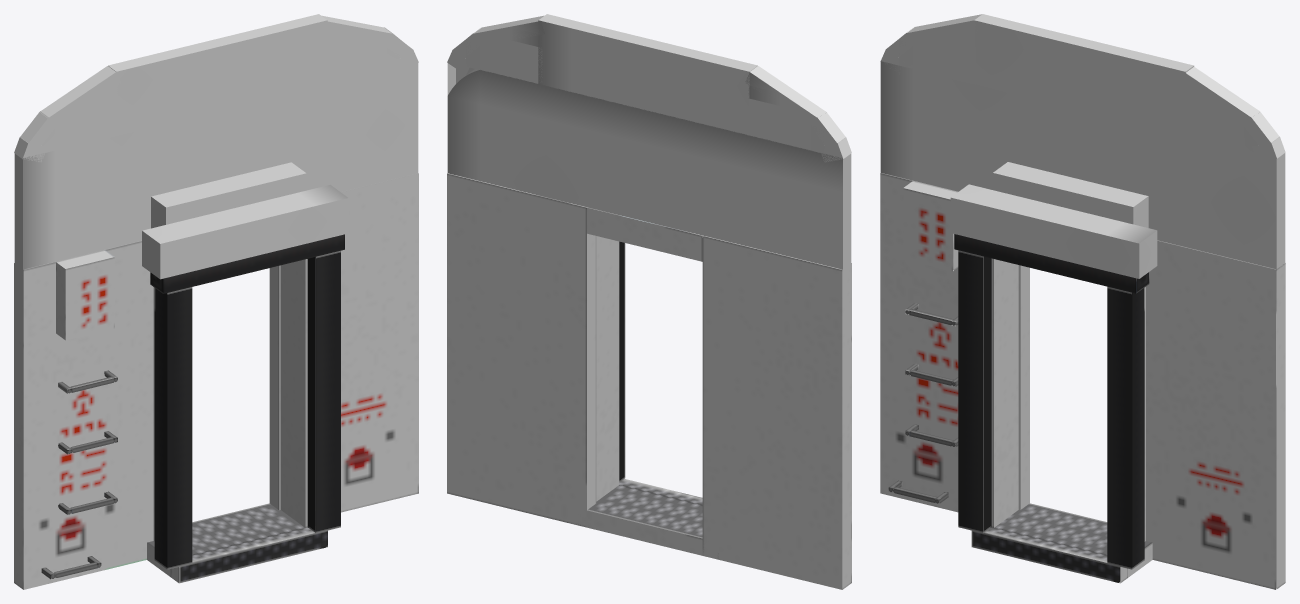
The model's file is end_face_original_25g_1.obj.
3 renders of one model, left to right at view 1: azimuth 30°, elevation 25°; view 2: azimuth 150°, elevation 25°; view 3: azimuth 330°, elevation 25°, orthographic.
Parts seen in each view (by area): view 1: cube; view 2: cube; view 3: cube.
Boxes of the visible parts, x1=… form: cube: x1=14, y1=14, x2=418, y2=589; cube: x1=447, y1=14, x2=851, y2=589; cube: x1=880, y1=14, x2=1285, y2=589.
Bounding box in the file's own units: 3 × 3.58 × 0.5594.
